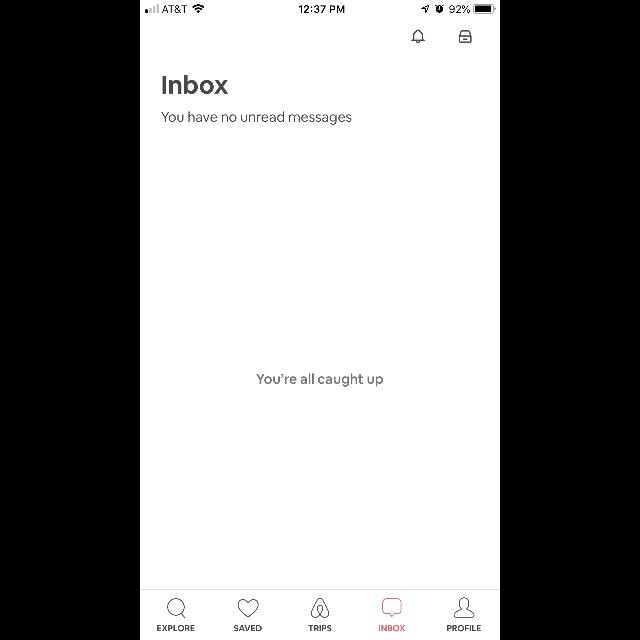icon: (382, 598, 402, 618), (454, 598, 474, 618), (168, 598, 186, 618), (238, 599, 258, 617), (412, 31, 424, 44)
image: (311, 598, 329, 618), (458, 31, 472, 44)
text: (162, 112, 352, 125), (256, 374, 384, 386), (162, 76, 228, 94), (448, 624, 480, 632), (158, 625, 195, 631), (234, 625, 262, 631), (379, 625, 405, 631), (308, 625, 332, 631)
uppertaskbar: (140, 0, 500, 14)
